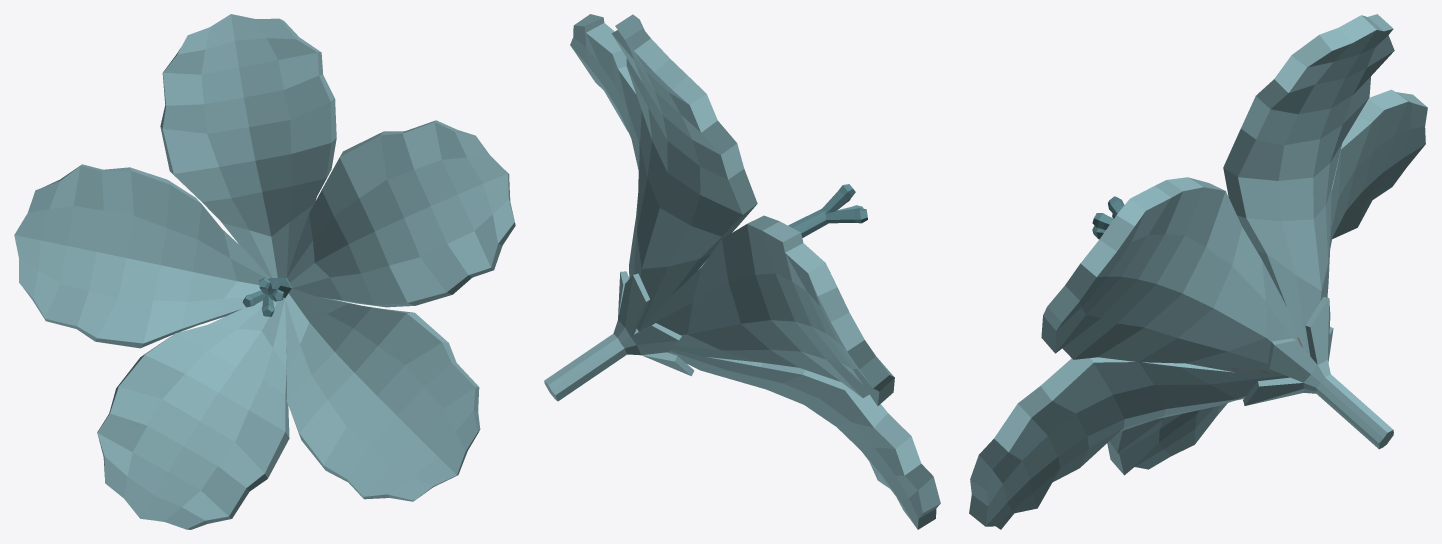
The model's file is Flower1.glb.
3 renders of one model, left to right at view 1: azimuth 30°, elevation 25°; view 2: azimuth 150°, elevation 25°; view 3: azimuth 270°, elevation 25°, orthographic. The views are drawn at different scales.
Parts seen in each view (by area): view 1: mesh_id5, mesh_id6; view 2: mesh_id5, mesh_id7, mesh_id6; view 3: mesh_id5, mesh_id7, mesh_id6.
Boxes of the visible parts, left/top/right/bottom form: mesh_id5: left=14, top=14, right=515, bottom=529; mesh_id6: left=242, top=277, right=291, bottom=316; mesh_id5: left=570, top=14, right=940, bottom=529; mesh_id7: left=544, top=271, right=694, bottom=401; mesh_id6: left=788, top=184, right=867, bottom=237; mesh_id5: left=969, top=14, right=1427, bottom=529; mesh_id7: left=1243, top=297, right=1393, bottom=449; mesh_id6: left=1092, top=196, right=1124, bottom=239.
Size of the model in its own units: 0.5461 by 0.5851 by 0.4585.
Materials: 3 (3 with a texture image).
